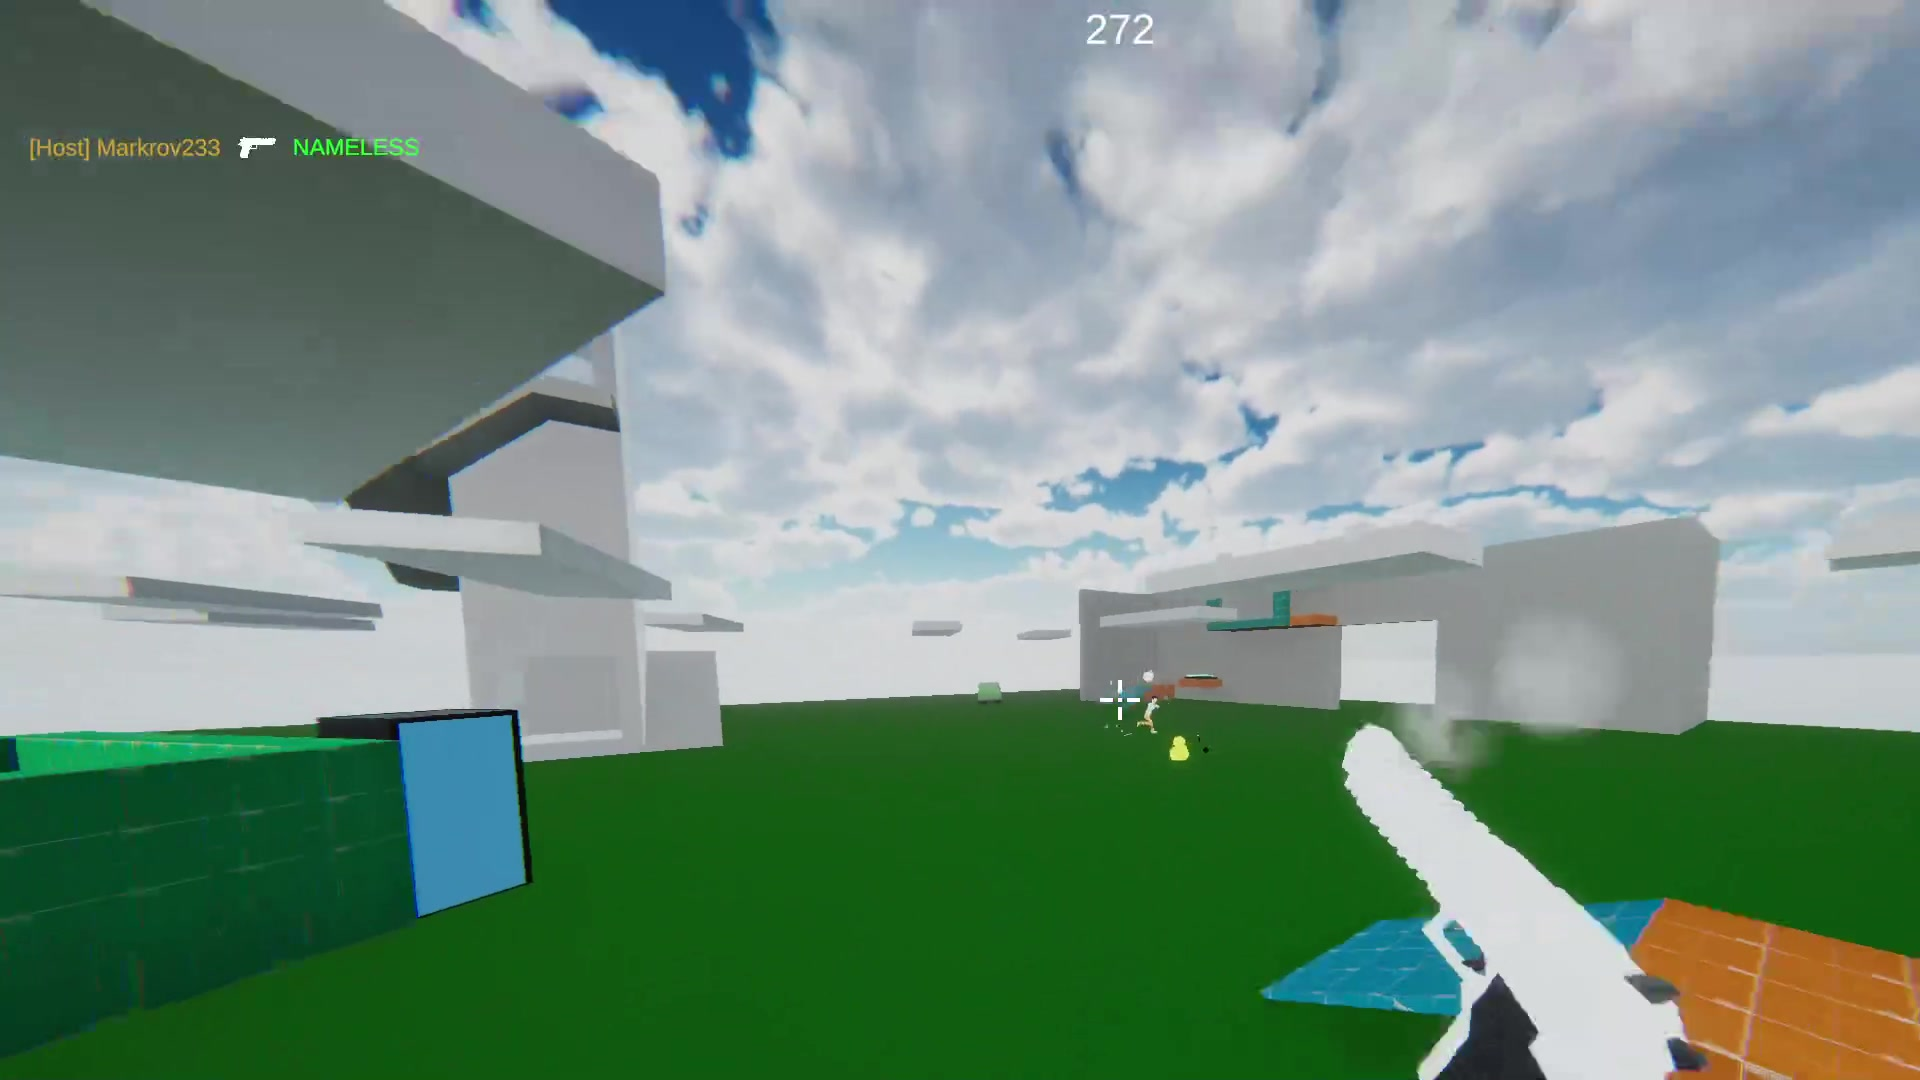human: (1141, 694, 1161, 738)
